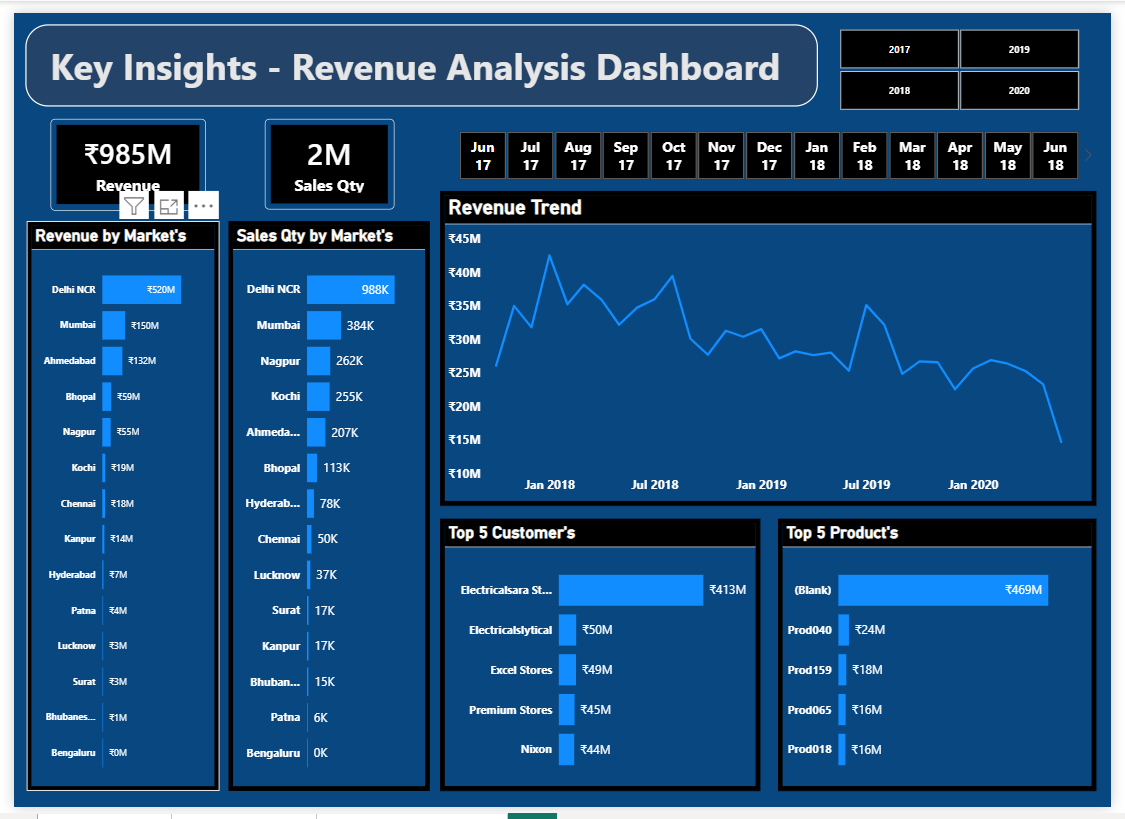

The dashboard page shown, as its layout file describes it:
{"tool":"powerbi","page":{"name":"Key Insights","canvas":[1450,1050],"ordinal":0},"visuals":[{"type":"cardVisual","fields":{"Data":["basemeasures.Revenue"]},"box":[48.6,140,205.7,121.4],"z":0},{"type":"cardVisual","fields":{"Data":["basemeasures.Sales Qty"]},"box":[331.7,140,171.7,120],"z":1000},{"type":"barChart","title":"Revenue by Market''s ","fields":{"Y":["basemeasures.Revenue"],"Category":["sales markets.markets_name"]},"box":[16.7,275,255,753.3],"z":2000},{"type":"barChart","title":"Sales Qty by Market''s ","fields":{"Y":["basemeasures.Sales Qty"],"Category":["sales markets.markets_name"]},"box":[283.3,275,266.7,753.3],"z":3000},{"type":"slicer","fields":{"Values":["sales date.year"]},"box":[1066.7,0,365,150],"z":4000},{"type":"slicer","fields":{"Values":["sales date.cy_date"]},"box":[563.3,150,868.3,76.7],"z":5000},{"type":"barChart","title":"Top 5 Customer''s ","fields":{"Category":["sales customers.custmer_name"],"Y":["basemeasures.Revenue"]},"box":[563.3,668.3,423.3,360],"z":6000},{"type":"barChart","title":"Top 5 Product''s ","fields":{"Category":["sales products.product_code"],"Y":["basemeasures.Revenue"]},"box":[1010,668.3,421.7,360],"z":7000},{"type":"lineChart","title":"Revenue Trend ","fields":{"Y":["basemeasures.Revenue"],"Category":["sales date.cy_date"]},"box":[563.3,235,868.3,416.7],"z":8000},{"type":"textbox","box":[15,15,1048.3,108.3],"z":9000}]}

Visuals, with their boxes in screenshot pixels (x1, y1, x2, y2), scaled from the page's 1450x1050 canvas onto the 1125x819 screenshot:
cardVisual - basemeasures.Revenue: BBox(38, 109, 197, 204)
cardVisual - basemeasures.Sales Qty: BBox(257, 109, 391, 203)
"Revenue by Market''s " barChart: BBox(13, 214, 211, 802)
"Sales Qty by Market''s " barChart: BBox(220, 214, 427, 802)
slicer - sales date.year: BBox(828, 0, 1111, 117)
slicer - sales date.cy_date: BBox(437, 117, 1111, 177)
"Top 5 Customer''s " barChart: BBox(437, 521, 765, 802)
"Top 5 Product''s " barChart: BBox(784, 521, 1111, 802)
"Revenue Trend " lineChart: BBox(437, 183, 1111, 508)
textbox: BBox(12, 12, 825, 96)
